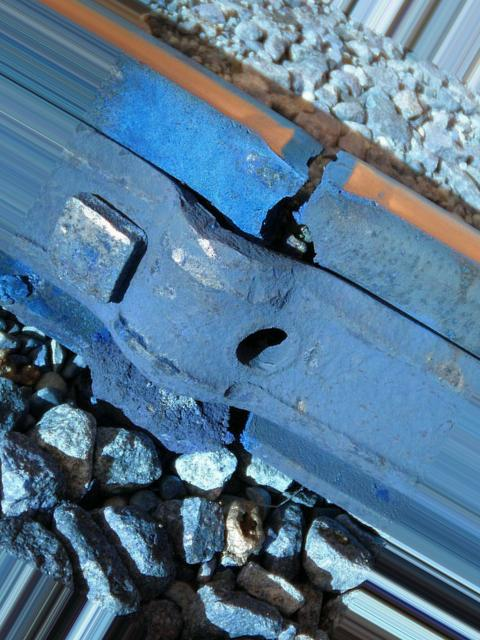tracks_fault: (117, 82, 359, 464)
